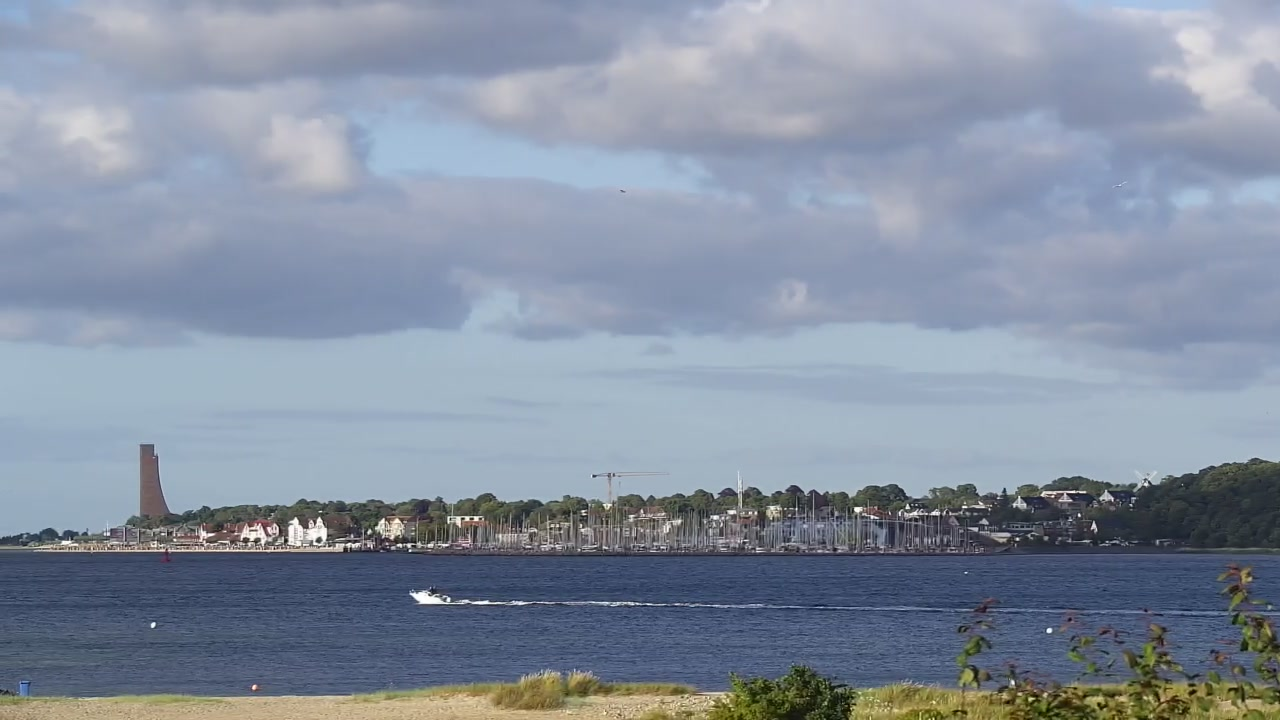human: (428, 583, 435, 596)
sea: (407, 587, 452, 605)
